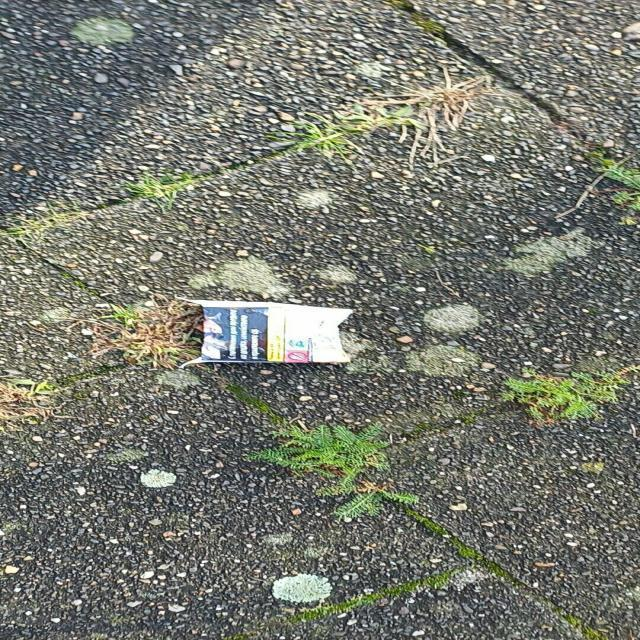Paper: (172, 296, 355, 370)
